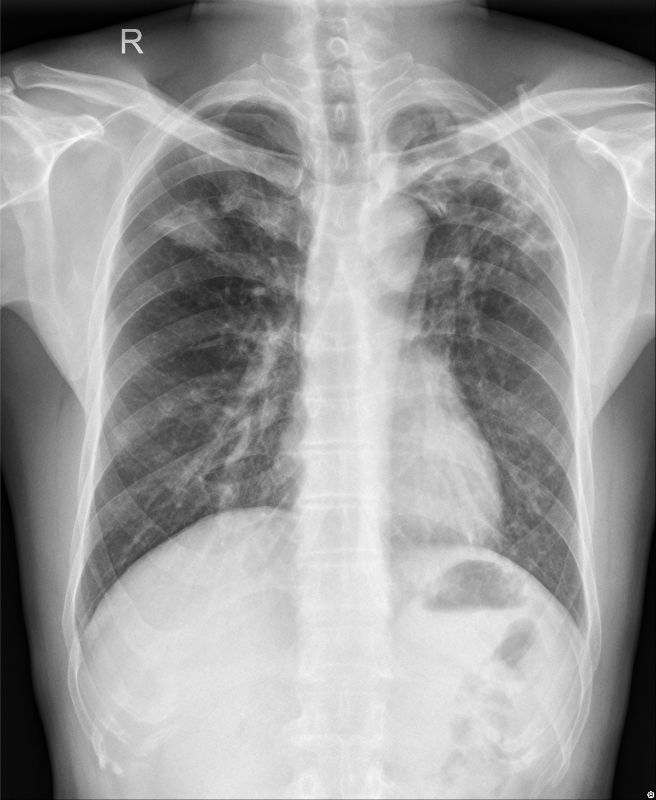Tuberculosis (TB): (157, 149, 285, 312), (427, 147, 541, 317)
